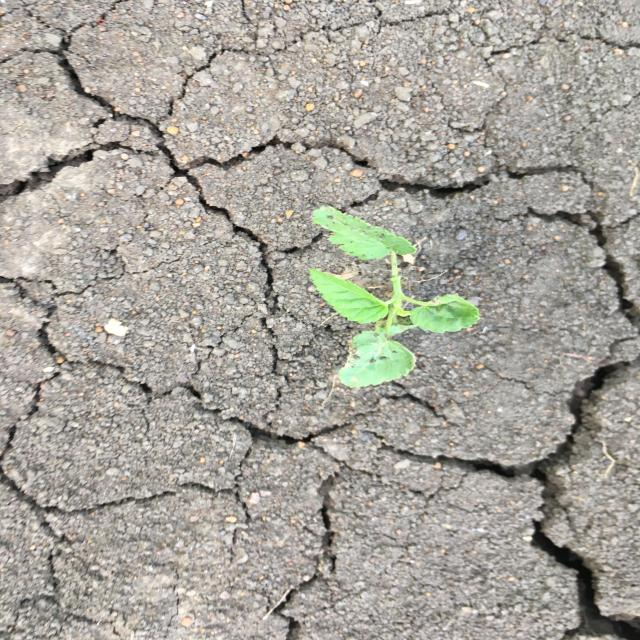PricklySida: (305, 204, 484, 392)
